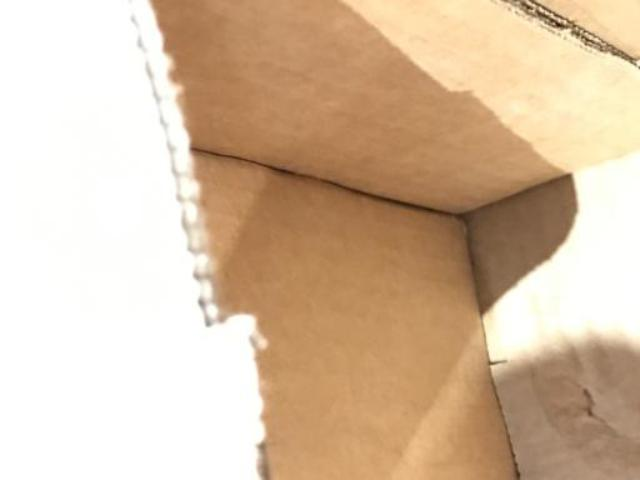cardboard paper: (135, 0, 638, 476)
